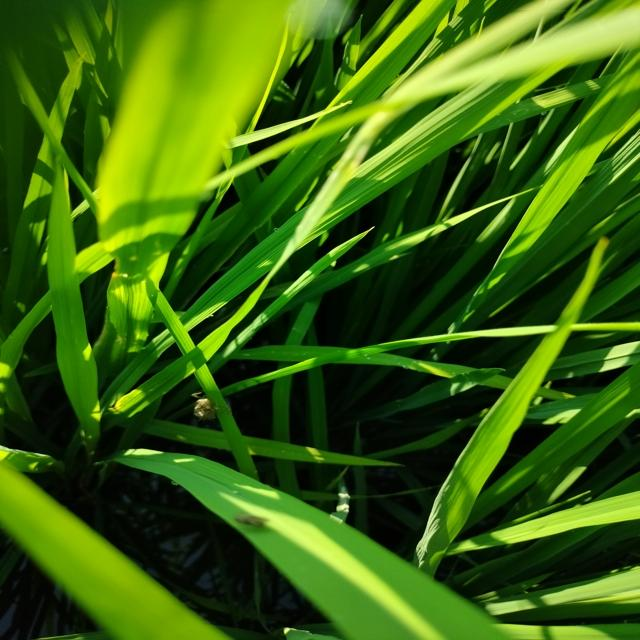healthy: (228, 501, 282, 540)
